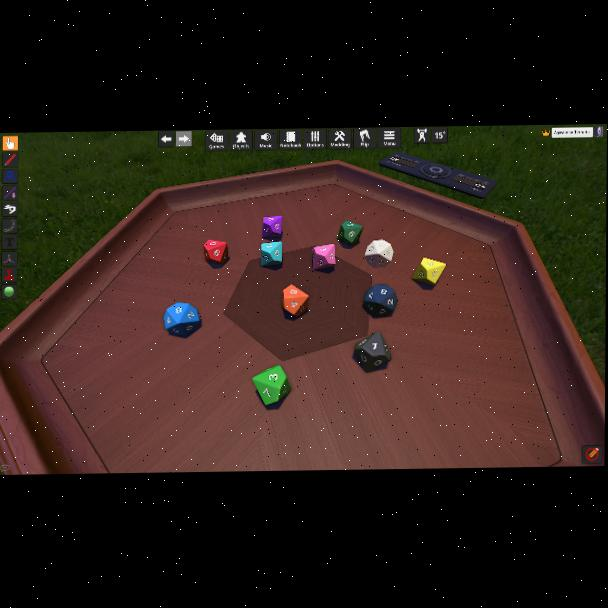d10: (252, 365, 290, 405), (353, 332, 390, 373), (163, 302, 200, 337), (362, 285, 395, 318), (281, 283, 308, 318), (413, 257, 445, 286), (364, 239, 392, 268), (311, 244, 335, 270), (337, 221, 361, 246), (260, 242, 282, 268), (204, 240, 227, 264), (262, 216, 282, 240)
